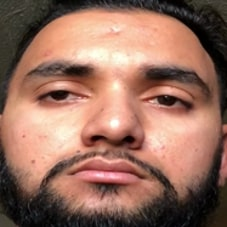drowsy: (24, 46, 213, 195)
